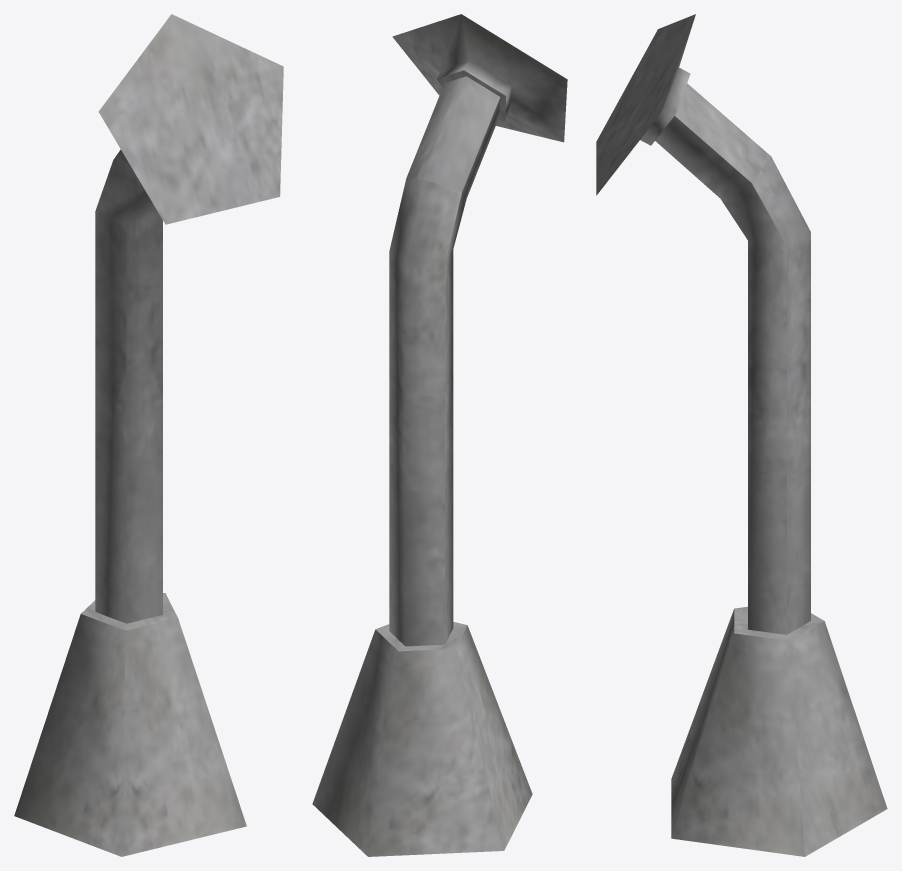
Rendered from Watering_can.glb.
3 views of the same model, side by side, from view 1: azimuth 30°, elevation 25°; view 2: azimuth 150°, elevation 25°; view 3: azimuth 270°, elevation 25° (orthographic). The views are drawn at different scales.
Parts seen in each view (by area): view 1: Watering_can; view 2: Watering_can; view 3: Watering_can.
Boxes of the visible parts, x1=… form: Watering_can: x1=14, y1=14, x2=283, y2=856; Watering_can: x1=312, y1=14, x2=567, y2=856; Watering_can: x1=596, y1=14, x2=887, y2=856.
Size of the model in its own units: 0.166 by 0.6405 by 0.2126.
Materials: 2 (2 with a texture image).
